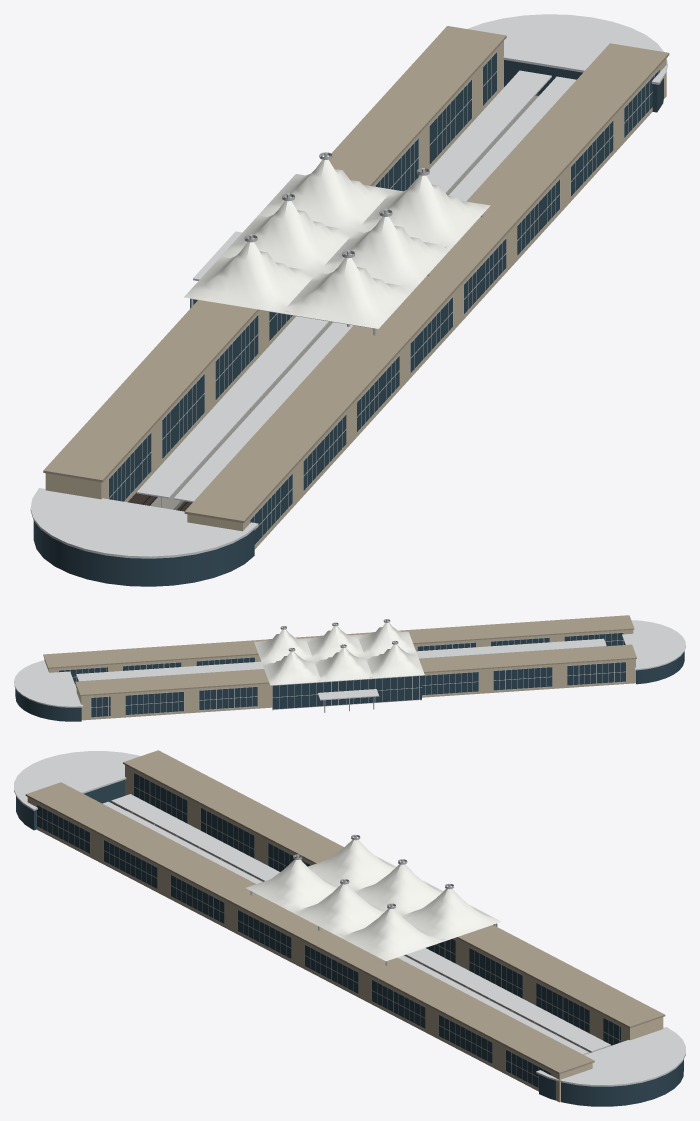
The model's file is sidigaber-station.glb.
The picture shows the model from 3 angles, top to bottom: view 1: azimuth 30°, elevation 25°; view 2: azimuth 150°, elevation 25°; view 3: azimuth 270°, elevation 25°; orthographic projection. The views are drawn at different scales.
Visible parts, largest first — view 1: SidiGaberStation; view 2: SidiGaberStation; view 3: SidiGaberStation.
Boxes of the visible parts, x1,y1,x2,y2 form: SidiGaberStation: (30,14,669,586); SidiGaberStation: (14,615,685,721); SidiGaberStation: (14,750,685,1106).
Bounding box in the file's own units: 223 × 22.8 × 189.
Materials: 1 (1 with a texture image).
